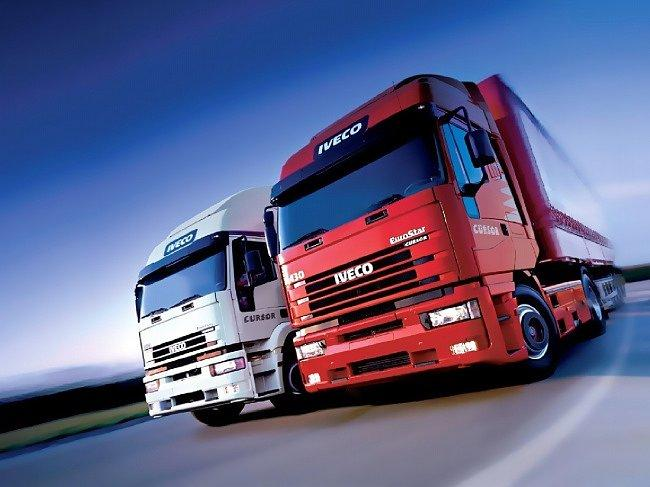卡车: (270, 84, 650, 394), (125, 189, 295, 434)
